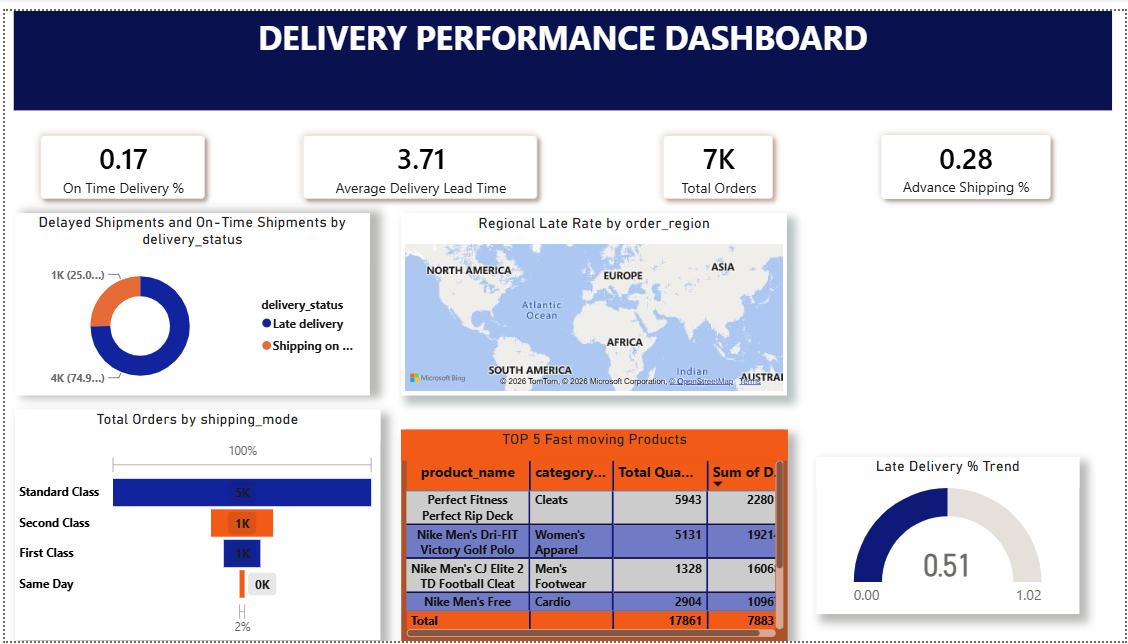

The page's visual inventory and layout, read from the dashboard file:
{"tool":"powerbi","page":{"name":"Page 3","canvas":[1280,720],"ordinal":2},"visuals":[{"type":"cardVisual","fields":{"Data":["Fact_table.Total Orders"]},"box":[723,113.2,184.1,131.8],"z":0},{"type":"cardVisual","fields":{"Data":["Fact_table.On Time Delivery %"]},"box":[11.8,113.2,246.6,131.8],"z":1000},{"type":"cardVisual","fields":{"Data":["Fact_table.Average Delivery Lead Time"]},"box":[310.8,113.2,326,131.8],"z":2000},{"type":"funnel","fields":{"Category":["Fact_table.shipping_mode"],"Y":["Fact_table.Total Orders"]},"box":[11.8,456.1,417.2,263.5],"z":3000},{"type":"filledMap","fields":{"Category":["Dim_location.order_region"]},"box":[452.7,231.4,440.9,207.8],"z":4000},{"type":"textbox","box":[10,0,1255,113.3],"z":5000},{"type":"tableEx","title":"TOP 5 Fast moving Products","fields":{"Values":["Fact_table.product_name","Fact_table.category_name","Fact_table.Total Quantity Sold","Sum(Fact_table.Days Since Last Sale (Col))"]},"box":[453.3,478.3,441.7,241.7],"z":6000},{"type":"cardVisual","fields":{"Data":["Fact_table.Advance Shipping %"]},"box":[973,113.2,251.7,131.8],"z":7000},{"type":"gauge","fields":{"Y":["Fact_table.Late Delivery % Trend"]},"box":[927.4,510.1,300.7,179.1],"z":8000},{"type":"donutChart","fields":{"Y":["Fact_table.Delayed Shipments","Fact_table.On-Time Shipments"],"Category":["Dim_Shipping.delivery_status"]},"box":[11.8,231.4,405.4,207.8],"z":9000}]}

Visuals, with their boxes in screenshot pixels (x1, y1, x2, y2), scaled from the page's 1280x720 canvas onto the 1128x644 screenshot:
cardVisual - Fact_table.Total Orders: detection(637, 101, 799, 219)
cardVisual - Fact_table.On Time Delivery %: detection(10, 101, 228, 219)
cardVisual - Fact_table.Average Delivery Lead Time: detection(274, 101, 561, 219)
funnel - Fact_table.shipping_mode x Fact_table.Total Orders: detection(10, 408, 378, 643)
filledMap - Dim_location.order_region: detection(399, 207, 787, 393)
textbox: detection(9, 0, 1115, 101)
"TOP 5 Fast moving Products" tableEx: detection(399, 428, 789, 643)
cardVisual - Fact_table.Advance Shipping %: detection(857, 101, 1079, 219)
gauge - Fact_table.Late Delivery % Trend: detection(817, 456, 1082, 616)
donutChart - Fact_table.Delayed Shipments x Fact_table.On-Time Shipments: detection(10, 207, 368, 393)
